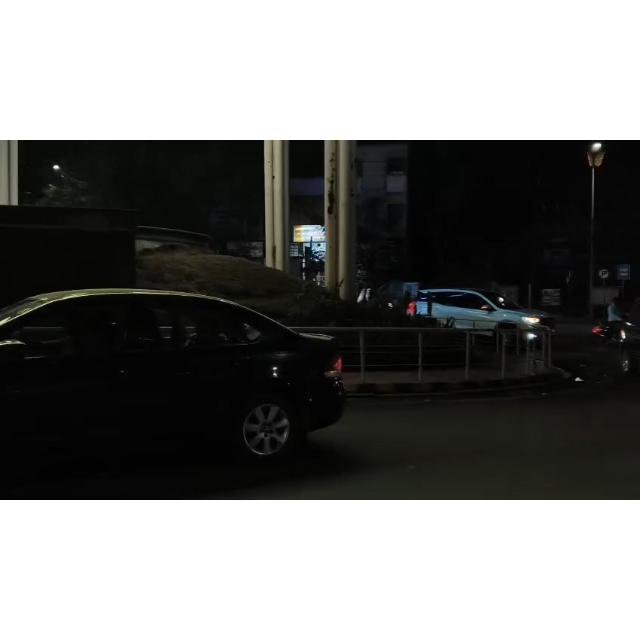car: (3, 277, 360, 473), (402, 280, 560, 360)
